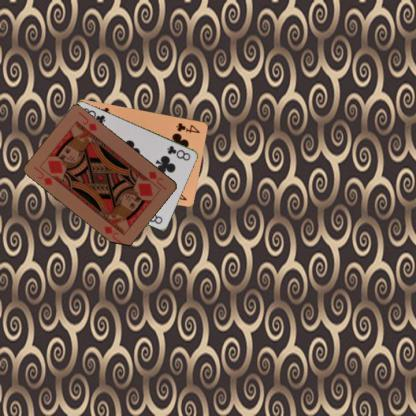4c: (173, 120, 201, 134)
8c: (164, 142, 192, 161)
Jd: (31, 164, 54, 187), (146, 169, 168, 191)
